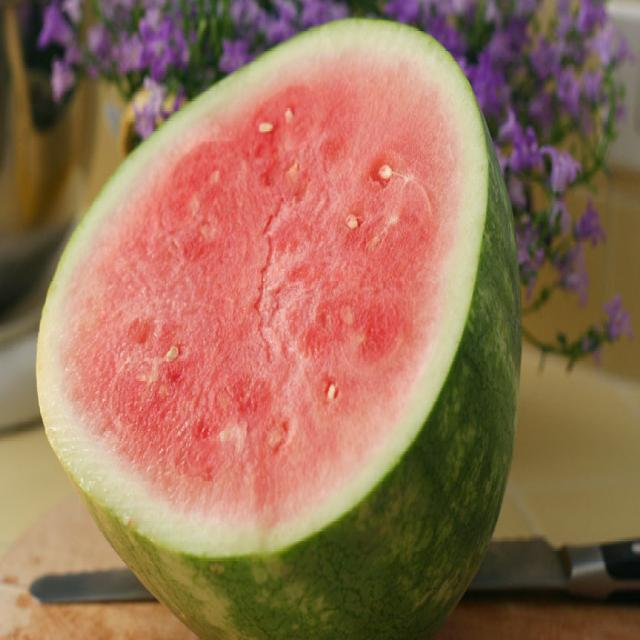Watermelon: (38, 19, 520, 638)
